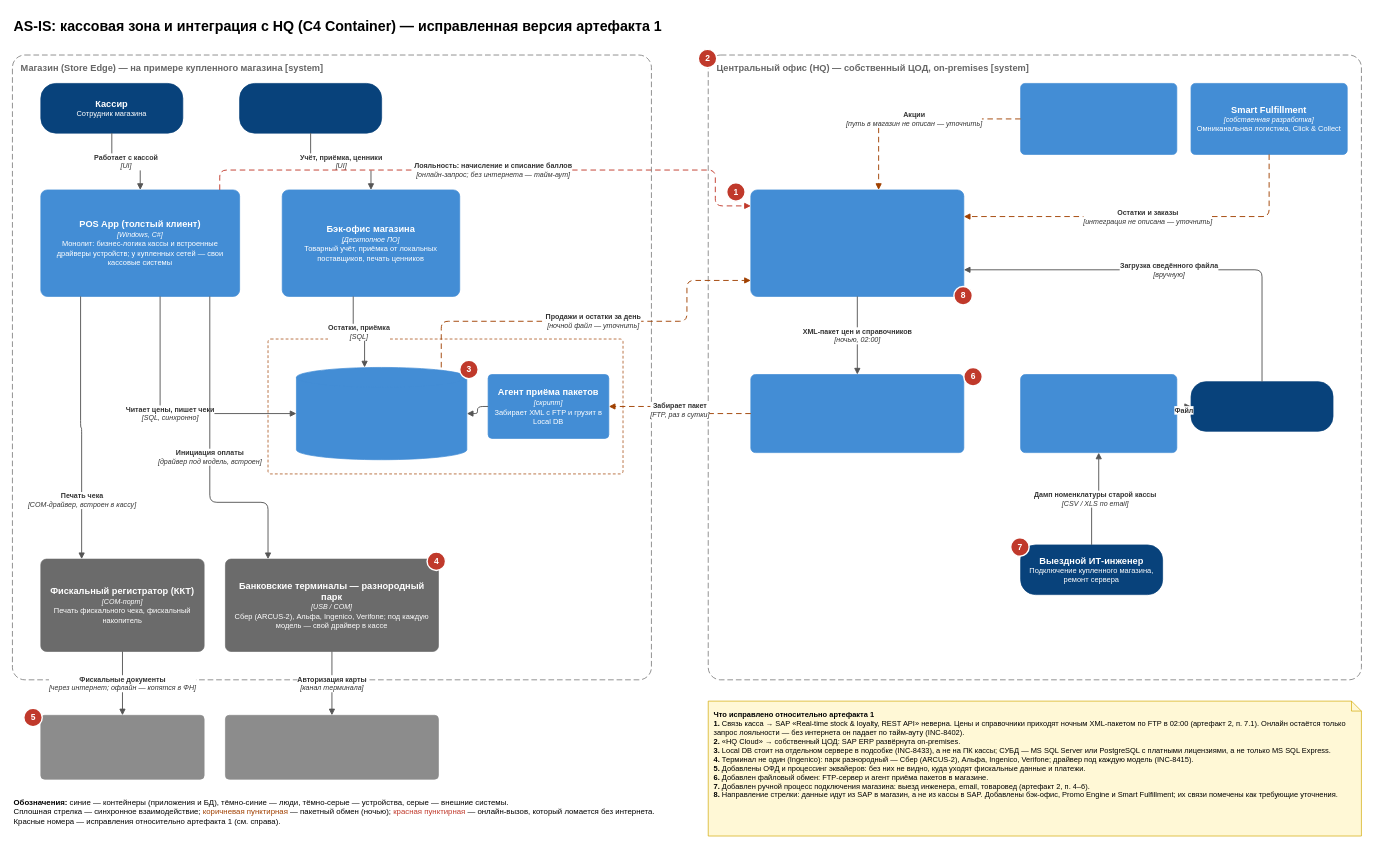
This 1374x862 diagram has some shape labels left out. The shapes that lost their labels are listed below. From the top down, each one's box as (x1, y1, x2, y2) in pixels, then its label:
(239, 83, 382, 133): Сотрудник магазина Приёмка, остатки, ценники
(1020, 83, 1177, 154): Promo Engine [собственная разработка] Единый движок акций
(750, 189, 964, 296): SAP ERP [on-premises] Товары, цены, кадры, финансы; программа лояльности
(296, 367, 467, 460): Local DB [MS SQL Server / PostgreSQL] Чеки, справочник товаров и цены магазина
(267, 338, 623, 474): Локальный сервер магазина (в подсобке)
(750, 374, 964, 453): FTP-сервер [файловый обмен] Ночная рассылка XML-пакетов в магазины (02:00)
(1020, 374, 1177, 453): Почтовый ящик [email] data-integration@vitastore.ru
(1190, 381, 1333, 431): Товаровед (HQ) VLOOKUP по штрихкодам, ручной маппинг: 500 позиций/ч
(40, 715, 204, 779): ОФД [внешняя система] Оператор фискальных данных
(225, 715, 438, 779): Процессинг банков-эквайеров [внешняя система] Авторизация карточных операций
